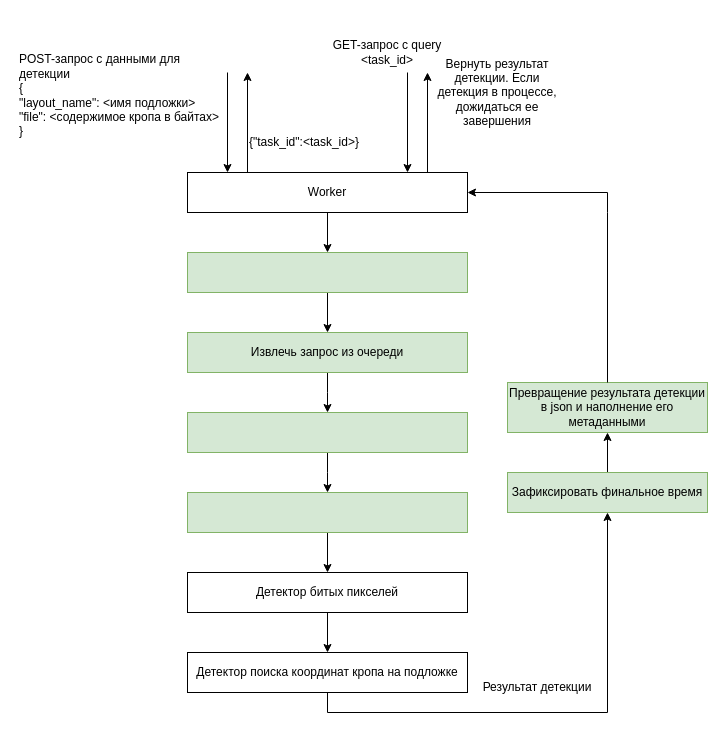
Image size: 725x738. Some labels were removed from this diagram. Here are the shapes that lost their labels. From the top down, the box of each, then its label:
(186, 252, 468, 292): Поместить запрос в очередь на детекцию
(186, 412, 468, 452): Зафиксировать стартовое время
(186, 492, 468, 532): detect(layout_name: str, crop: np.ndarray)
